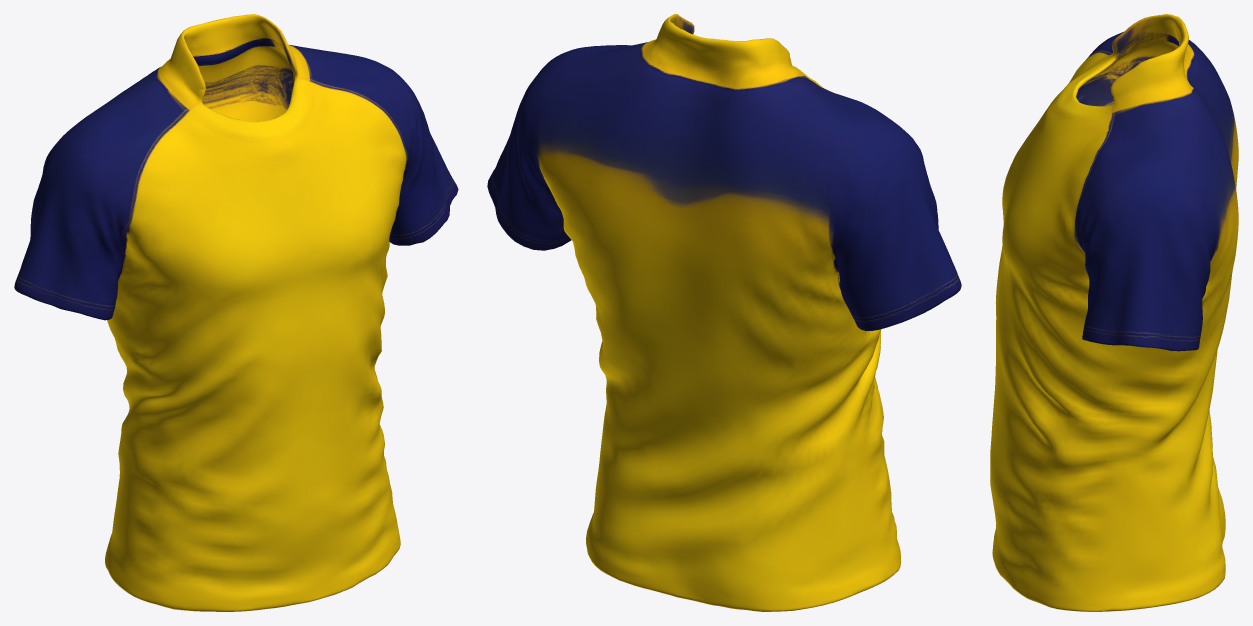
File: rugby-jersey-textured.glb
3 renders of one model, left to right at view 1: azimuth 30°, elevation 25°; view 2: azimuth 150°, elevation 25°; view 3: azimuth 270°, elevation 25°, orthographic. The views are drawn at different scales.
Visible parts, largest first — view 1: tripo_node_aaecff3c-1426-4ed2-baaa-8914b378e50f; view 2: tripo_node_aaecff3c-1426-4ed2-baaa-8914b378e50f; view 3: tripo_node_aaecff3c-1426-4ed2-baaa-8914b378e50f.
Part boxes in pixels (left/top/right/bottom): tripo_node_aaecff3c-1426-4ed2-baaa-8914b378e50f: left=14, top=14, right=458, bottom=611; tripo_node_aaecff3c-1426-4ed2-baaa-8914b378e50f: left=487, top=14, right=961, bottom=611; tripo_node_aaecff3c-1426-4ed2-baaa-8914b378e50f: left=990, top=14, right=1238, bottom=611.
Size of the model in its own units: 0.8863 by 0.999 by 0.4307.
1 material, 1 textured.
